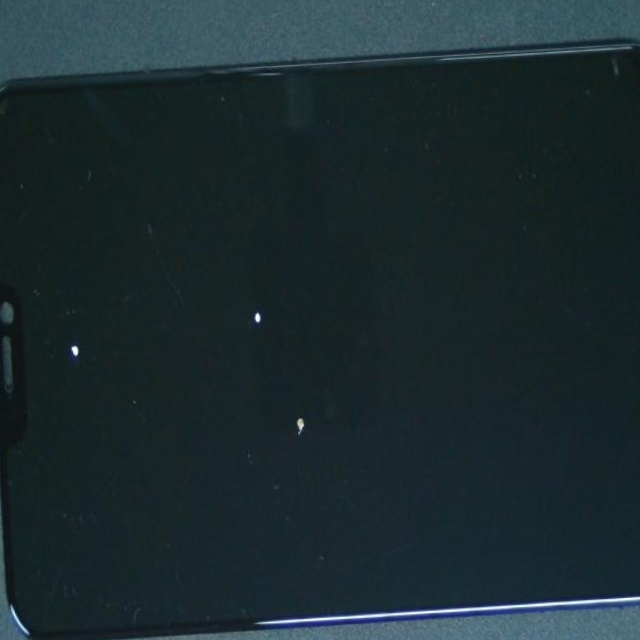stain: (121, 127, 465, 640), (93, 79, 411, 478), (28, 148, 162, 507)
